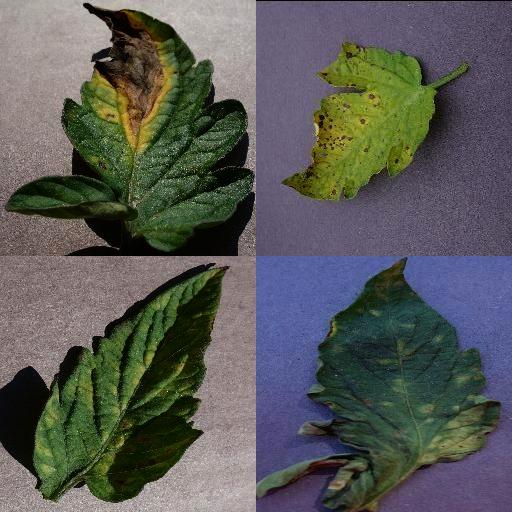Early Blight: (59, 4, 256, 256)
Leaf Mold: (299, 256, 503, 512), (34, 265, 229, 501)
Septoria: (280, 38, 438, 198)
